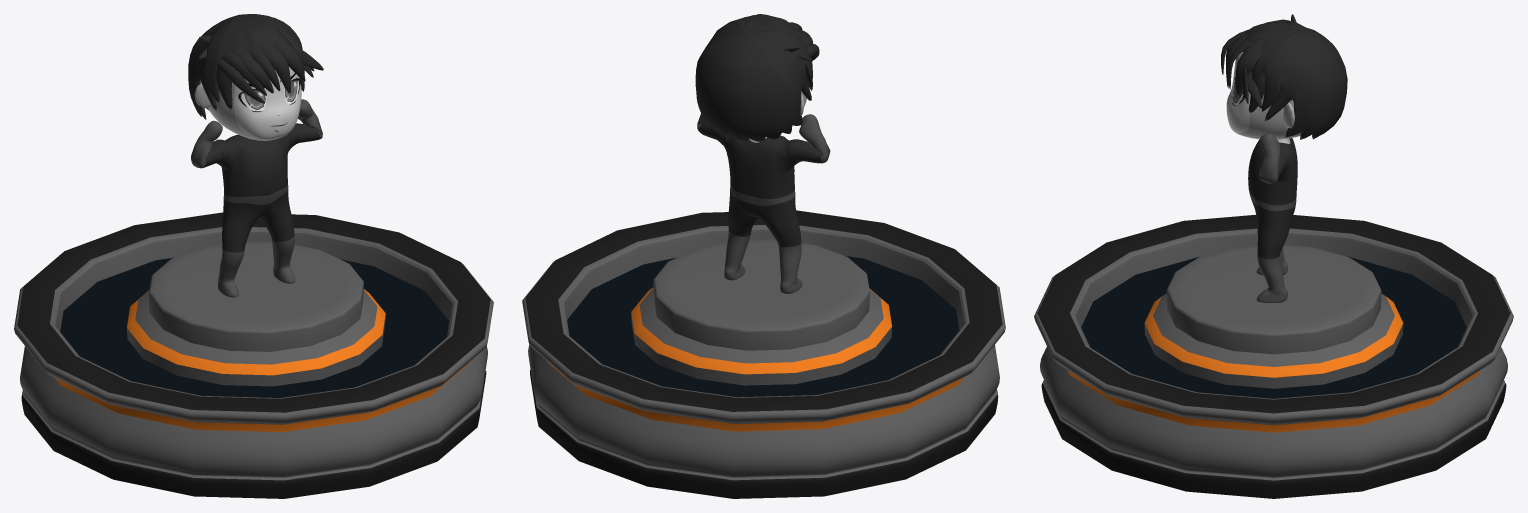
Rendered from Good Statue.FBX.
3 views of the same model, side by side, from view 1: azimuth 30°, elevation 25°; view 2: azimuth 150°, elevation 25°; view 3: azimuth 270°, elevation 25° (orthographic).
Parts seen in each view (by area): view 1: Statue; view 2: Statue; view 3: Statue.
Boxes of the visible parts, bbox=[...] form: Statue: bbox=[14, 14, 493, 498]; Statue: bbox=[522, 14, 1005, 498]; Statue: bbox=[1034, 14, 1513, 498].
Bounding box in the file's own units: 142 × 123 × 142.
9 materials, 1 textured.
